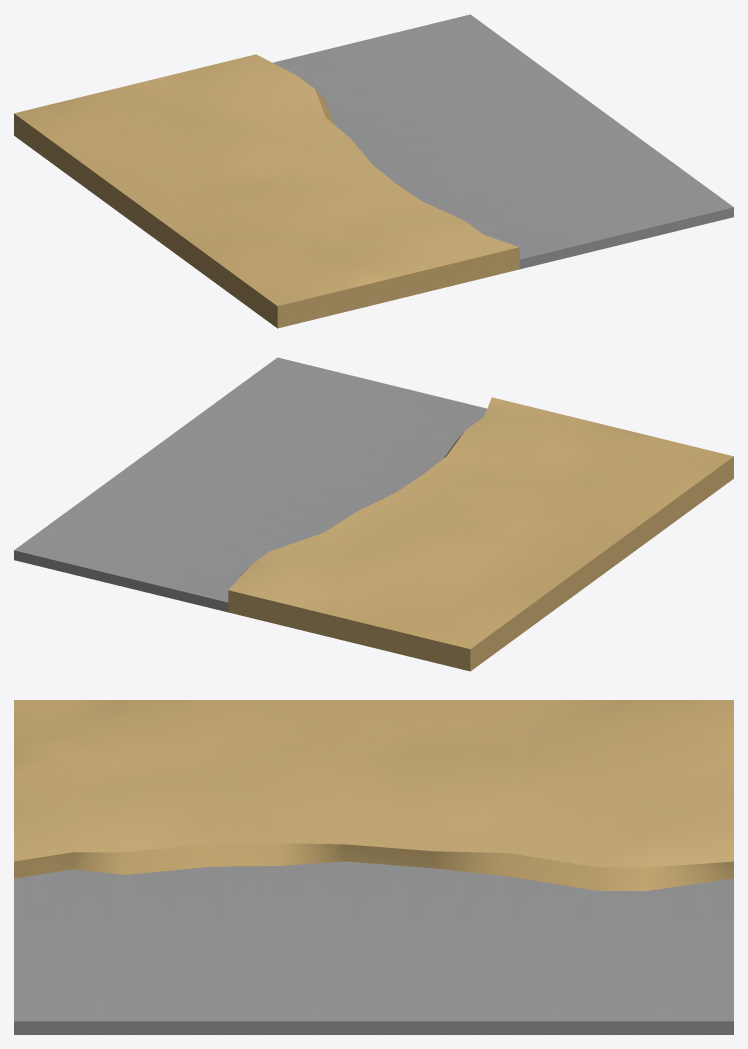
The model's file is ground_road_2_L.dae.
The picture shows the model from 3 angles, top to bottom: view 1: azimuth 30°, elevation 25°; view 2: azimuth 150°, elevation 25°; view 3: azimuth 270°, elevation 25°; orthographic projection. The views are drawn at different scales.
Visible parts, largest first — view 1: ground_road_2_L; view 2: ground_road_2_L; view 3: ground_road_2_L.
Part boxes in pixels (box(x1,y1,x2,y2)): ground_road_2_L: box(14, 14, 733, 328); ground_road_2_L: box(14, 357, 733, 671); ground_road_2_L: box(14, 700, 733, 1034).
Size of the model in its own units: 2 by 2 by 0.1193.
